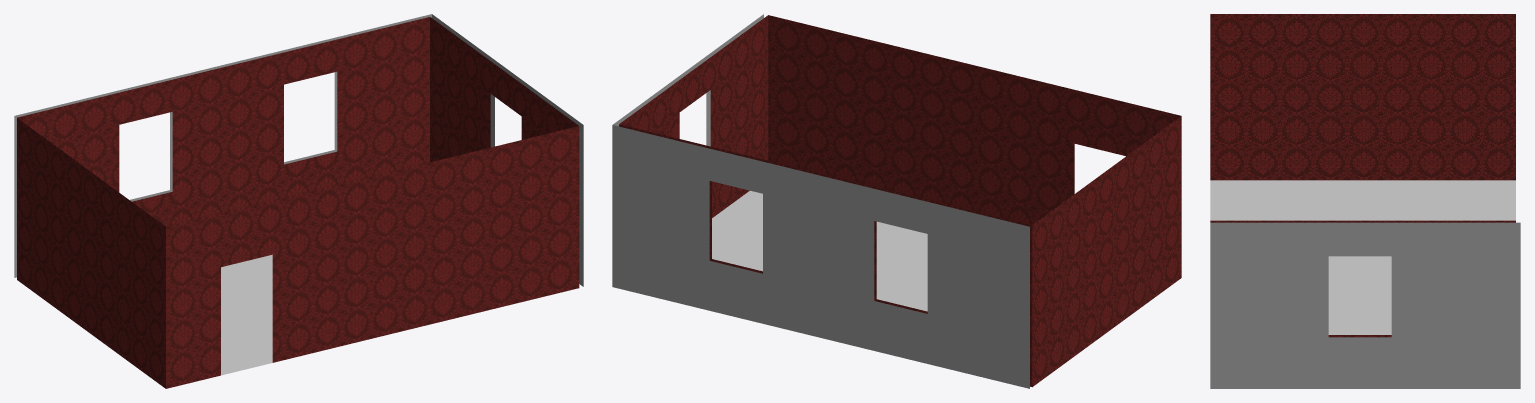
The model's file is StudyRoom_1.fbx.
The picture shows the model from 3 angles, left to right: view 1: azimuth 30°, elevation 25°; view 2: azimuth 150°, elevation 25°; view 3: azimuth 270°, elevation 25°; orthographic projection. The views are drawn at different scales.
Parts seen in each view (by area): view 1: StudyIndoorWalls, StudyFloor, StudyOutdoor_Wall; view 2: StudyIndoorWalls, StudyOutdoor_Wall, StudyFloor; view 3: StudyIndoorWalls, StudyOutdoor_Wall, StudyFloor.
Part boxes in pixels (x1=…): StudyIndoorWalls: x1=17, y1=17, x2=579, y2=388; StudyFloor: x1=221, y1=254, x2=272, y2=375; StudyOutdoor_Wall: x1=14, y1=14, x2=583, y2=286; StudyIndoorWalls: x1=619, y1=15, x2=1181, y2=387; StudyOutdoor_Wall: x1=612, y1=14, x2=1029, y2=388; StudyFloor: x1=712, y1=190, x2=927, y2=311; StudyIndoorWalls: x1=1210, y1=14, x2=1515, y2=337; StudyOutdoor_Wall: x1=1210, y1=222, x2=1520, y2=388; StudyFloor: x1=1210, y1=180, x2=1515, y2=334.
Bounding box in the file's own units: 808 × 300 × 508.
